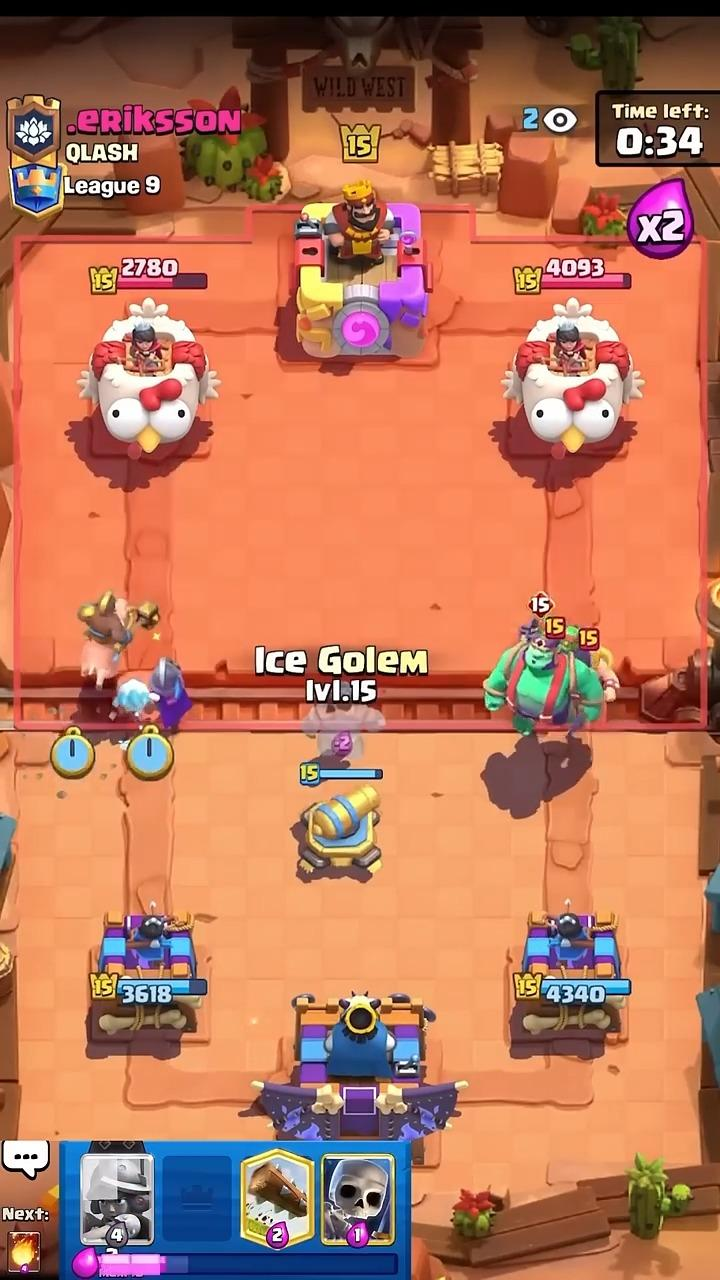cannon: (303, 787, 379, 865)
elite barbarians: (591, 647, 619, 702)
goblin giant: (485, 623, 604, 736)
hog rider: (78, 592, 156, 689)
ice spirit: (112, 678, 158, 719)
musketeer: (149, 658, 192, 732)
